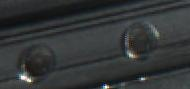joints: (119, 20, 161, 62), (18, 43, 56, 82)
